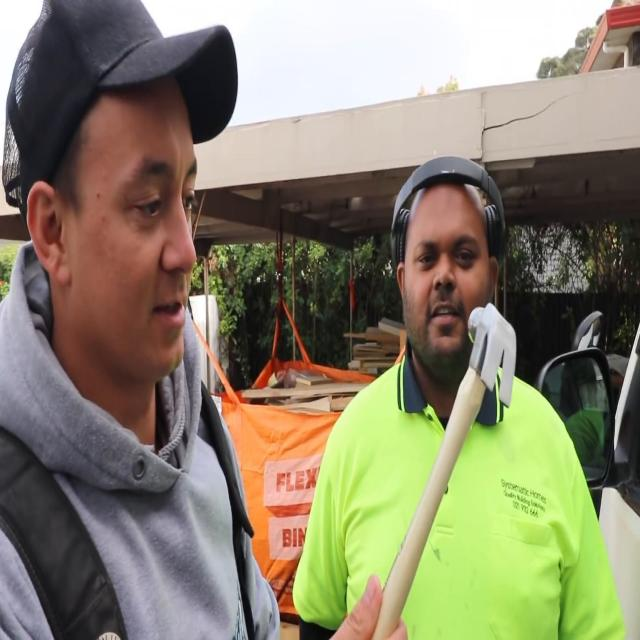hammer: (370, 299, 523, 640)
